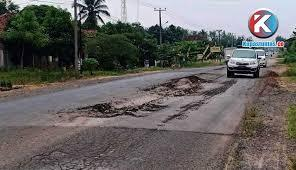Pothole: (131, 61, 237, 102), (72, 88, 161, 126), (15, 149, 147, 170)
